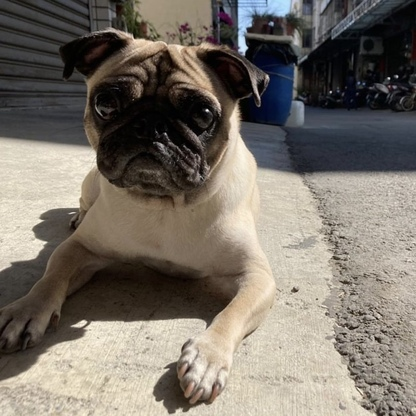Pug: (1, 24, 296, 416)
